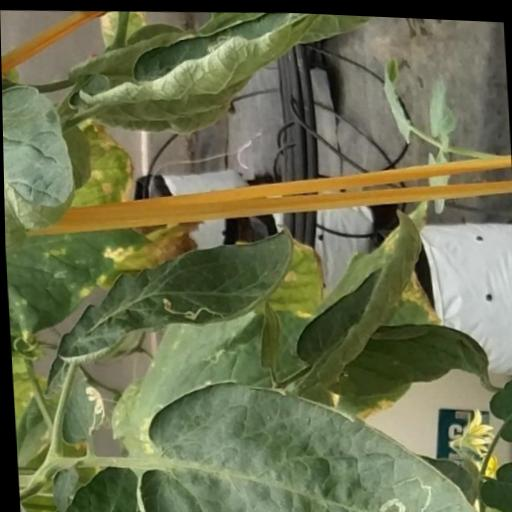Leaf_Miner: (128, 366, 476, 512), (49, 209, 303, 365), (55, 362, 105, 444)
